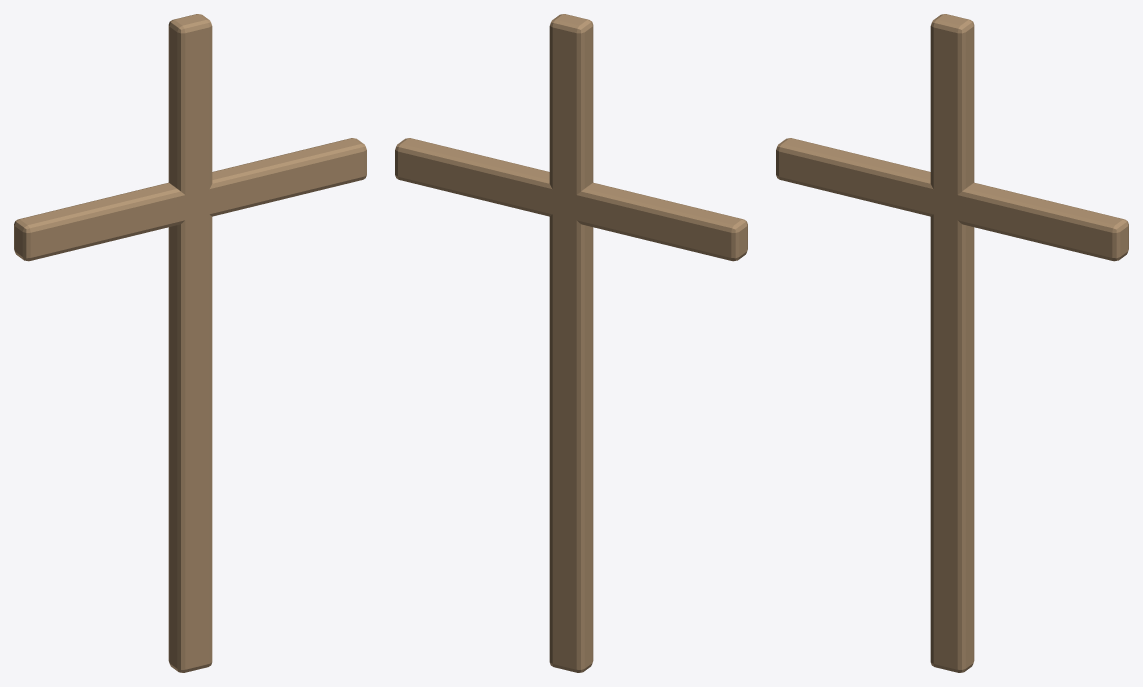
The model's file is lotprop__lot_church_nave_cross.glb.
3 views of the same model, side by side, from view 1: azimuth 30°, elevation 25°; view 2: azimuth 150°, elevation 25°; view 3: azimuth 330°, elevation 25° (orthographic).
Parts seen in each view (by area): view 1: lotprop__lot_church_nave_cross; view 2: lotprop__lot_church_nave_cross; view 3: lotprop__lot_church_nave_cross.
Boxes of the visible parts, <box> form: lotprop__lot_church_nave_cross: <box>14,14,366,672</box>; lotprop__lot_church_nave_cross: <box>395,14,747,672</box>; lotprop__lot_church_nave_cross: <box>776,14,1128,672</box>.
Size of the model in its own units: 1 by 1.8 by 0.07.
